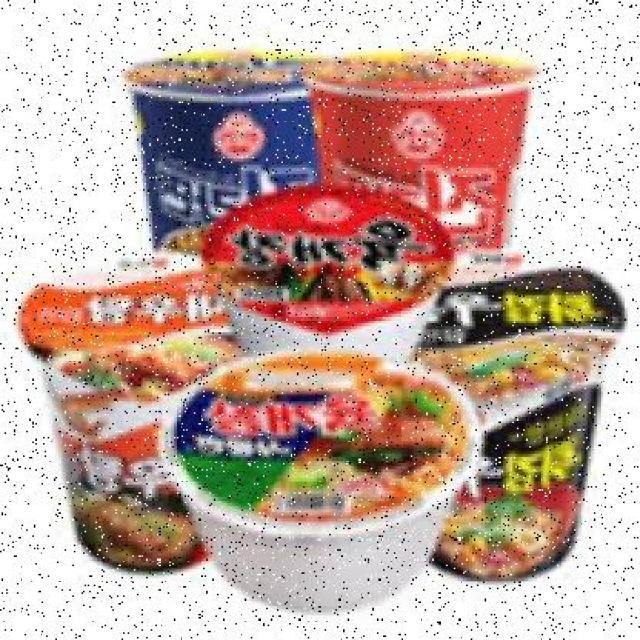Miscellaneous: (152, 352, 476, 610), (3, 240, 237, 576), (398, 248, 592, 586), (298, 52, 537, 300), (108, 52, 334, 296), (194, 185, 448, 382)
